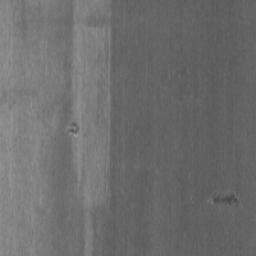Rolled pit: (72, 0, 111, 256), (212, 193, 239, 205)
